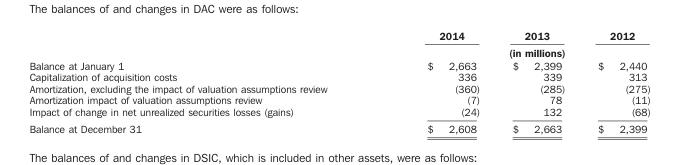table: (28, 28, 649, 134)
table column: (28, 28, 376, 134), (376, 28, 495, 134), (495, 28, 580, 134), (580, 28, 649, 134)
table column header: (28, 28, 649, 58)
table row: (28, 28, 649, 43), (28, 43, 649, 58), (28, 119, 649, 134), (28, 105, 649, 119), (28, 58, 649, 70), (28, 70, 649, 82), (28, 93, 649, 105), (28, 82, 649, 93)
table spanning cell: (376, 43, 649, 58)
